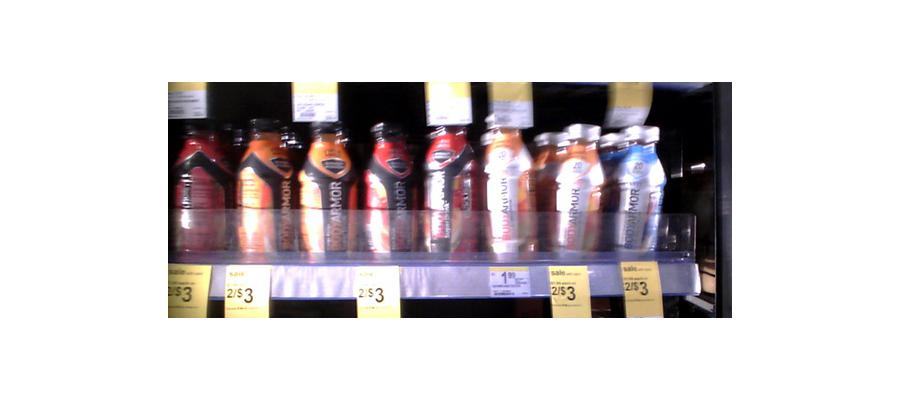bottle: (537, 120, 606, 256), (170, 110, 231, 257), (483, 93, 534, 260), (235, 117, 295, 258), (424, 106, 478, 259), (299, 116, 356, 258), (607, 118, 662, 255), (364, 119, 419, 254)
